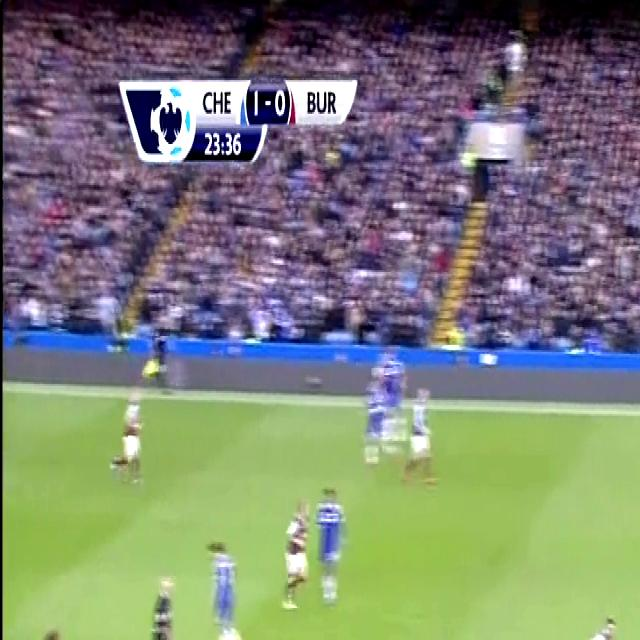referee: (133, 567, 183, 640), (139, 310, 177, 395)
soccer-player: (310, 465, 348, 612), (396, 377, 441, 501), (359, 344, 401, 476), (201, 522, 247, 640), (273, 486, 312, 618), (108, 374, 149, 498), (565, 594, 618, 640), (28, 617, 73, 640)
